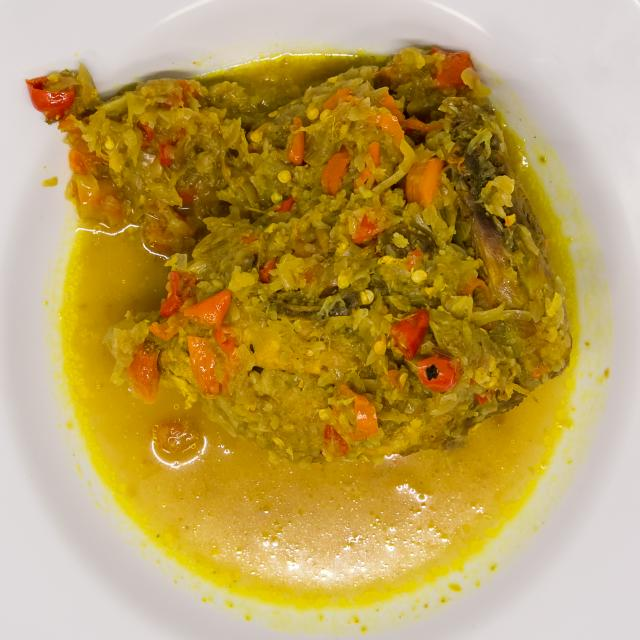Ayam-Betutu: (42, 32, 583, 477)
